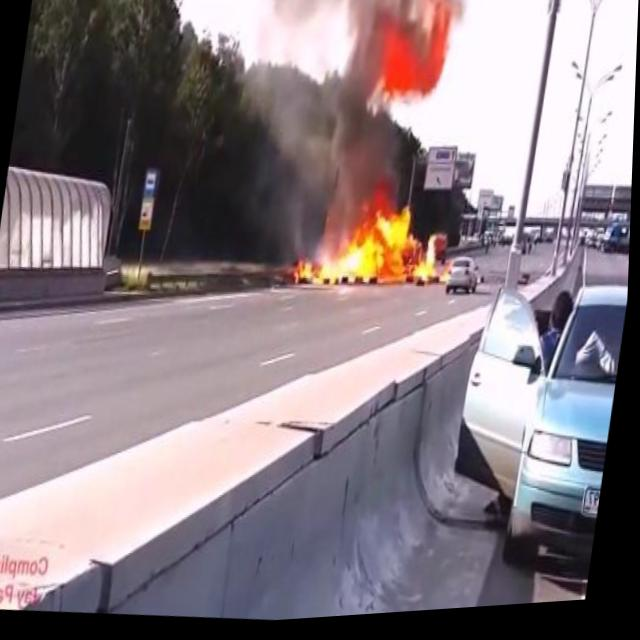fire: (293, 196, 449, 308), (364, 1, 460, 115)
